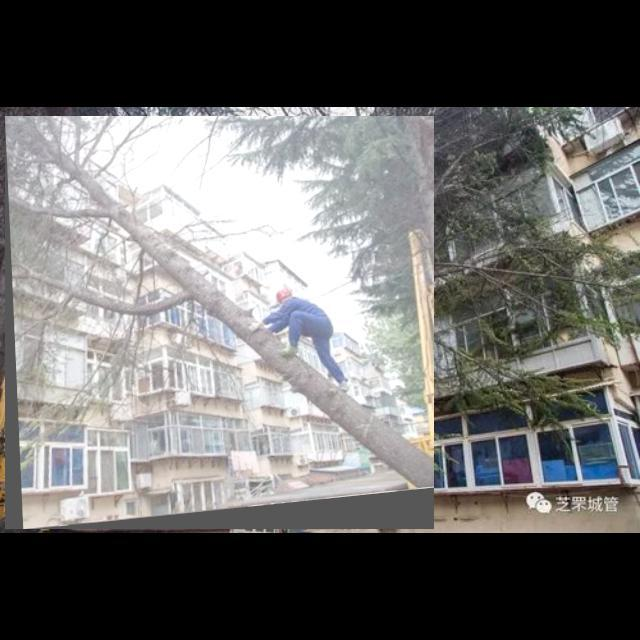fallen_tree: (5, 116, 435, 530)
